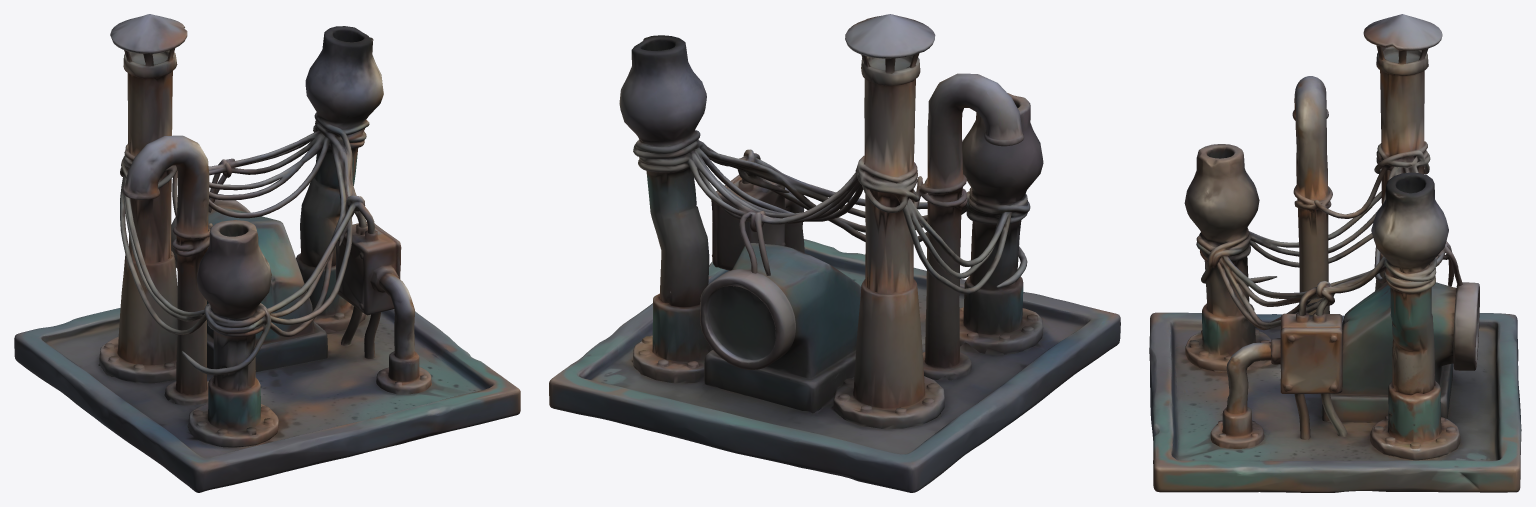
The model's file is roof_vents.glb.
The picture shows the model from 3 angles, left to right: view 1: azimuth 30°, elevation 25°; view 2: azimuth 150°, elevation 25°; view 3: azimuth 270°, elevation 25°; orthographic projection. The views are drawn at different scales.
Visible parts, largest first — view 1: tripo_part_1, tripo_part_0, tripo_part_2, tripo_part_5, tripo_part_3, tripo_part_6, tripo_part_4, tripo_part_7; view 2: tripo_part_1, tripo_part_0, tripo_part_2, tripo_part_3, tripo_part_5, tripo_part_4, tripo_part_6, tripo_part_7; view 3: tripo_part_1, tripo_part_0, tripo_part_3, tripo_part_2, tripo_part_5, tripo_part_6, tripo_part_7, tripo_part_4, tripo_part_8, tripo_part_9.
Boxes of the visible parts, bbox=[...] form: tripo_part_1: bbox=[14, 308, 520, 492]; tripo_part_0: bbox=[120, 26, 383, 447]; tripo_part_2: bbox=[98, 14, 187, 383]; tripo_part_5: bbox=[122, 135, 212, 405]; tripo_part_3: bbox=[171, 194, 327, 371]; tripo_part_6: bbox=[336, 221, 401, 315]; tripo_part_4: bbox=[208, 130, 329, 218]; tripo_part_7: bbox=[376, 273, 431, 394]; tripo_part_1: bbox=[549, 239, 1120, 492]; tripo_part_0: bbox=[619, 35, 1043, 384]; tripo_part_2: bbox=[829, 14, 944, 429]; tripo_part_3: bbox=[700, 243, 861, 413]; tripo_part_5: bbox=[913, 73, 1024, 380]; tripo_part_4: bbox=[688, 147, 863, 275]; tripo_part_6: bbox=[711, 175, 785, 270]; tripo_part_7: bbox=[785, 187, 804, 252]; tripo_part_1: bbox=[1149, 312, 1521, 492]; tripo_part_0: bbox=[1184, 144, 1460, 460]; tripo_part_3: bbox=[1322, 282, 1479, 423]; tripo_part_2: bbox=[1356, 14, 1442, 290]; tripo_part_5: bbox=[1292, 76, 1359, 314]; tripo_part_6: bbox=[1269, 312, 1342, 393]; tripo_part_7: bbox=[1210, 342, 1271, 448]; tripo_part_4: bbox=[1374, 156, 1462, 286]; tripo_part_8: bbox=[1294, 394, 1310, 439]; tripo_part_9: bbox=[1321, 393, 1347, 436].
Bounding box in the file's own units: 0.9156 × 0.9799 × 0.9125.
1 material, 1 textured.
